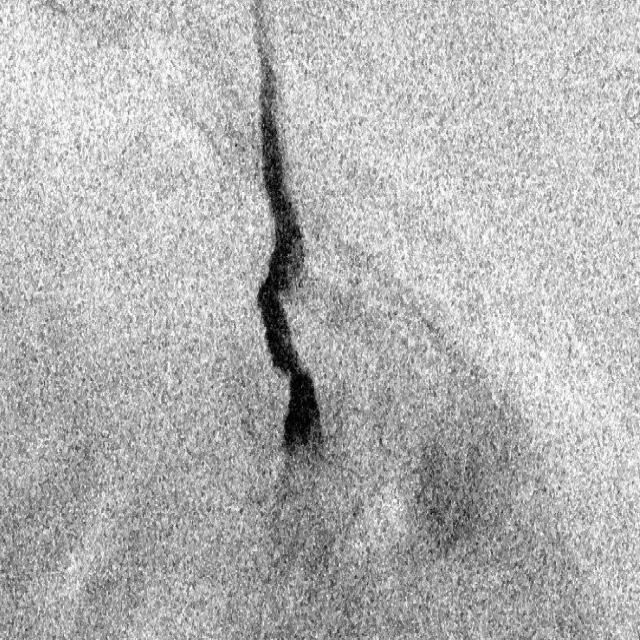oil-spill: (246, 7, 332, 479)
